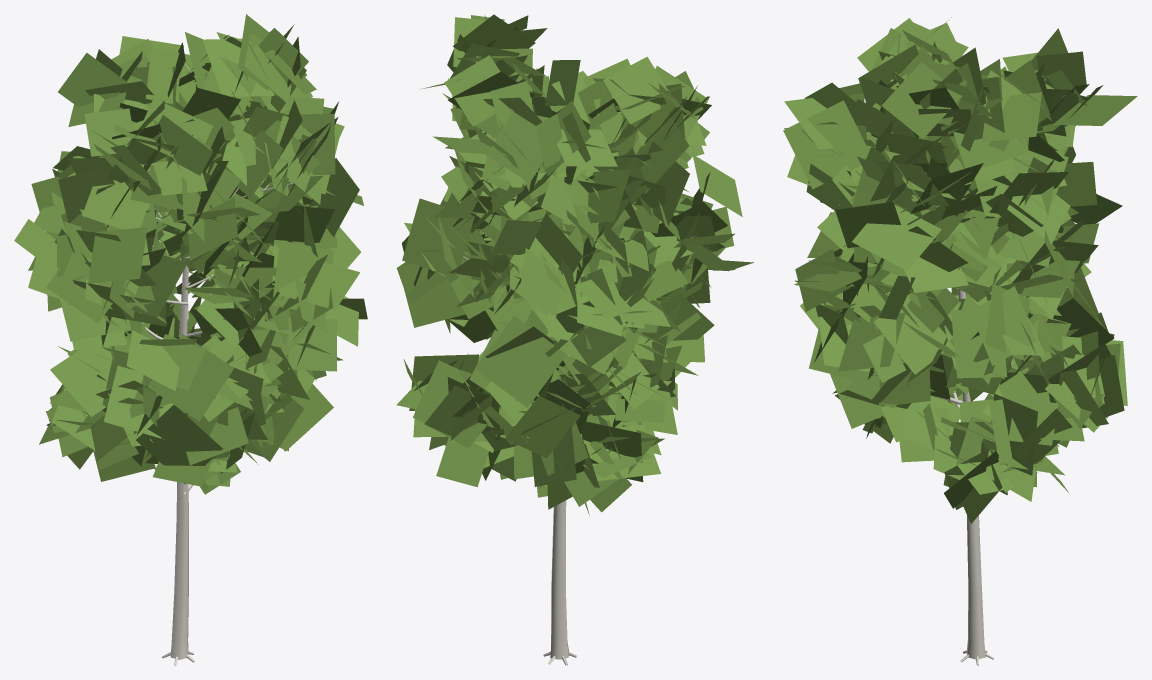
File: birch-4-lod1.glb
3 renders of one model, left to right at view 1: azimuth 30°, elevation 25°; view 2: azimuth 150°, elevation 25°; view 3: azimuth 270°, elevation 25°, orthographic. The views are drawn at different scales.
Parts seen in each view (by area): view 1: birch-4-lod1-foliage, birch-4-lod1-bark; view 2: birch-4-lod1-foliage, birch-4-lod1-bark; view 3: birch-4-lod1-foliage, birch-4-lod1-bark.
Part boxes in pixels (<box>): birch-4-lod1-foliage: <box>14,14,367,494</box>; birch-4-lod1-bark: <box>106,64,293,665</box>; birch-4-lod1-foliage: <box>396,14,753,516</box>; birch-4-lod1-bark: <box>463,236,696,665</box>; birch-4-lod1-foliage: <box>783,17,1137,523</box>; birch-4-lod1-bark: <box>849,95,1065,665</box>.
Bounding box in the file's own units: 12.42 × 23.01 × 11.48.
